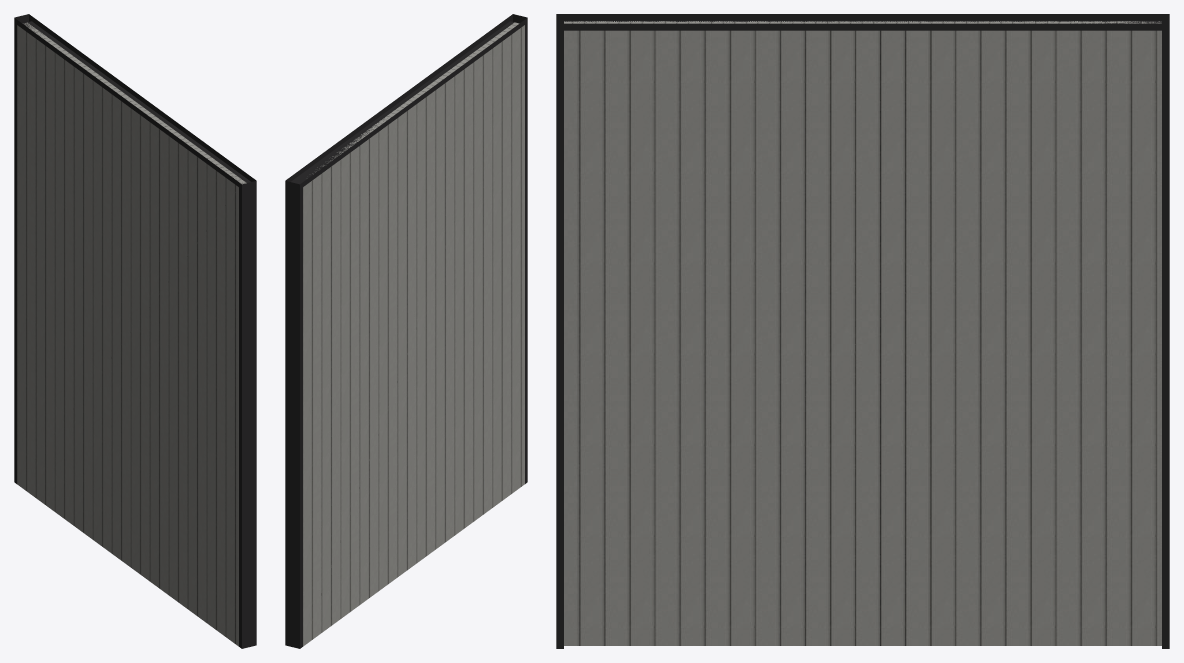
Rendered from slidingDoor.fbx.
The picture shows the model from 3 angles, left to right: view 1: azimuth 30°, elevation 25°; view 2: azimuth 150°, elevation 25°; view 3: azimuth 270°, elevation 25°; orthographic projection. The views are drawn at different scales.
Parts seen in each view (by area): view 1: SlidingDoor; view 2: SlidingDoor; view 3: SlidingDoor.
Boxes of the visible parts, left/top/right/bottom form: SlidingDoor: left=14, top=14, right=256, bottom=648; SlidingDoor: left=285, top=14, right=527, bottom=648; SlidingDoor: left=556, top=14, right=1169, bottom=648.
Bounding box in the file's own units: 150 × 4501 × 4000.
Materials: 3 (2 with a texture image).
